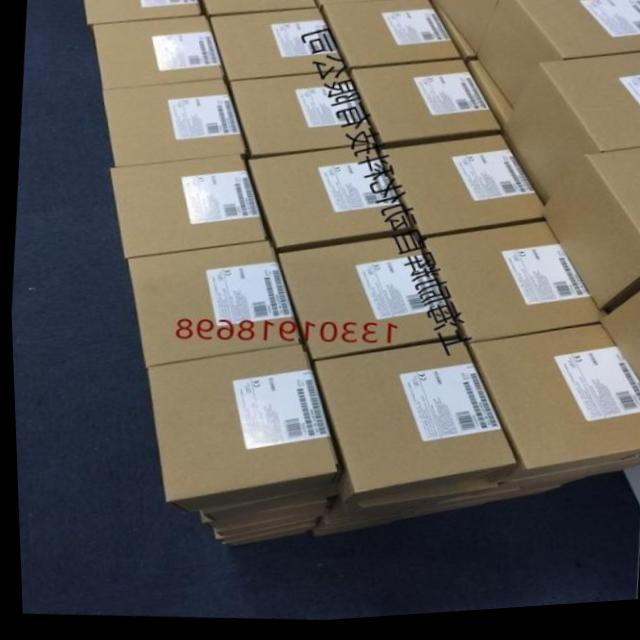box: (309, 342, 516, 512), (142, 348, 339, 517), (466, 333, 640, 487), (274, 238, 458, 363), (126, 241, 303, 368), (418, 229, 601, 348), (499, 60, 640, 209), (474, 0, 640, 115), (244, 149, 410, 251), (107, 157, 269, 259), (377, 141, 542, 241), (539, 155, 640, 316), (346, 65, 499, 149), (101, 82, 248, 169), (227, 76, 374, 159), (321, 2, 461, 73), (209, 11, 345, 83), (90, 17, 224, 89), (431, 0, 498, 63), (598, 297, 640, 393), (462, 61, 513, 134), (82, 0, 201, 26), (433, 1, 474, 64), (201, 0, 317, 18), (314, 0, 426, 12)
